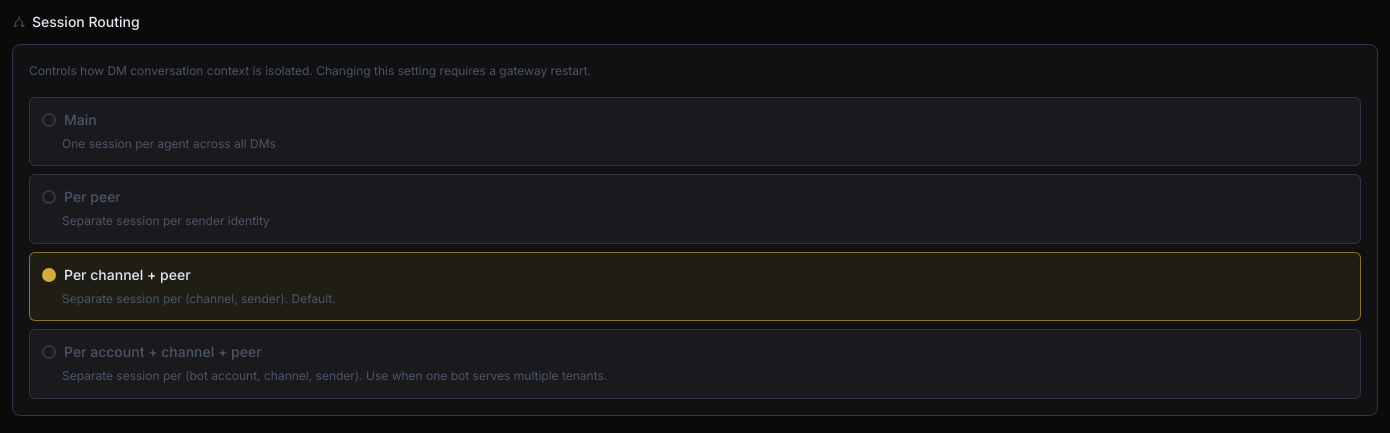
Test: SessionRoutingSection — autosave › shows SaveStatus "Saving…" while mutation is in flight
Click the radio button labelled "Main One session per agent across all DMs": coordinates (80, 119) [29,96,1361,166]
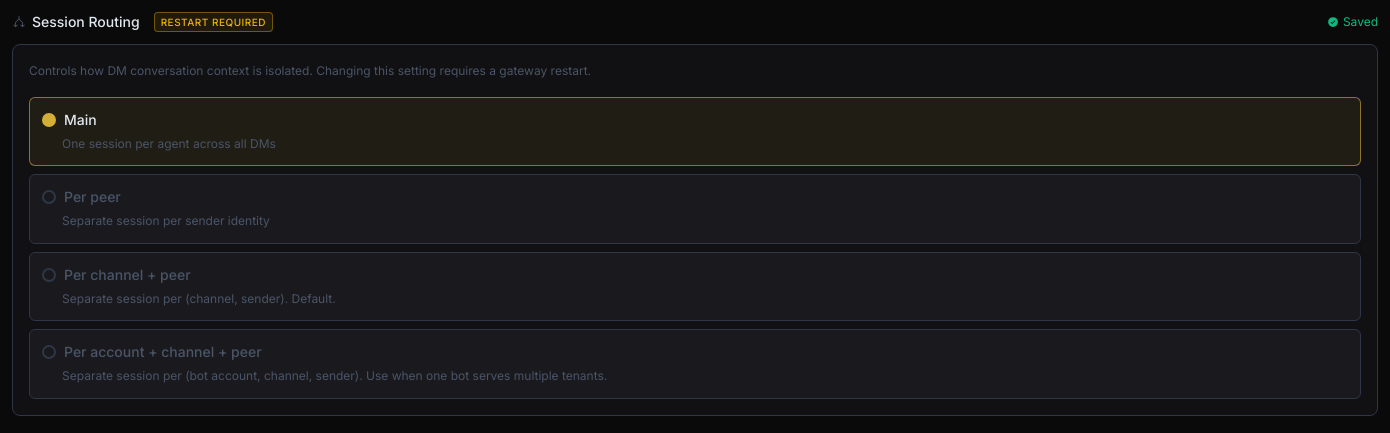
Now the text "saving" is shown, box [1327,14,1378,30]
